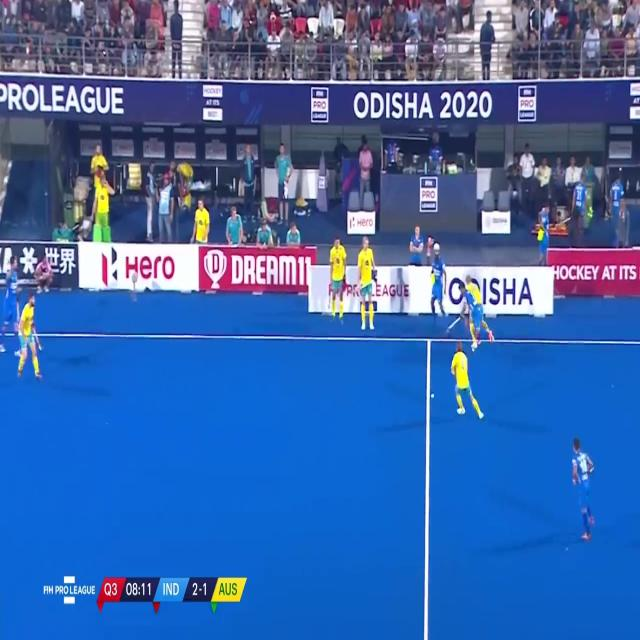ball: (430, 389, 435, 401)
